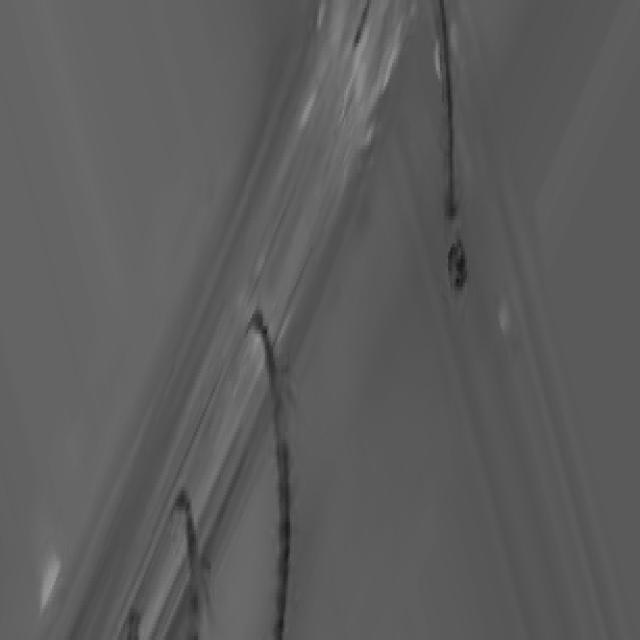larvas: (254, 318, 293, 640), (440, 0, 468, 294), (178, 491, 206, 640)
